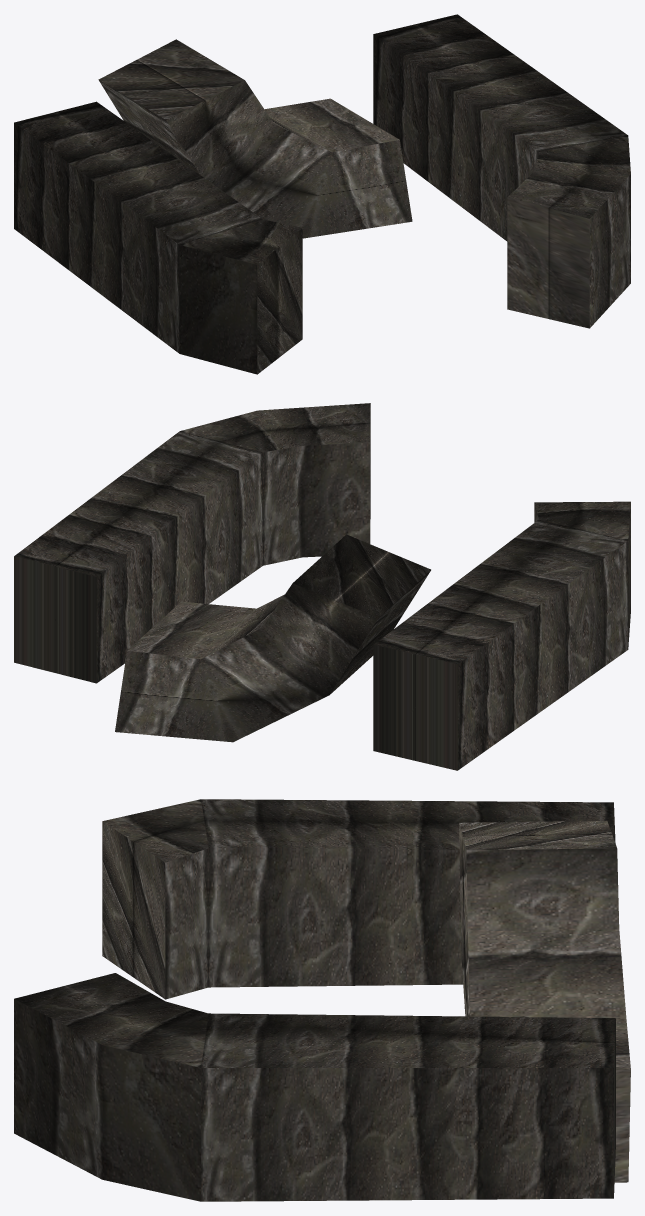
The model's file is gate-destr_03.obj.
3 views of the same model, one above another, from view 1: azimuth 30°, elevation 25°; view 2: azimuth 150°, elevation 25°; view 3: azimuth 270°, elevation 25° (orthographic). The views are drawn at different scales.
Parts seen in each view (by area): view 1: (null); view 2: (null); view 3: (null).
Part boxes in pixels (box(x1,y1,x2,y2)): (null): box(14, 14, 630, 374); (null): box(14, 403, 630, 770); (null): box(14, 799, 630, 1201).
Bounding box in the file's own units: 3.86 × 1.56 × 3.74.
